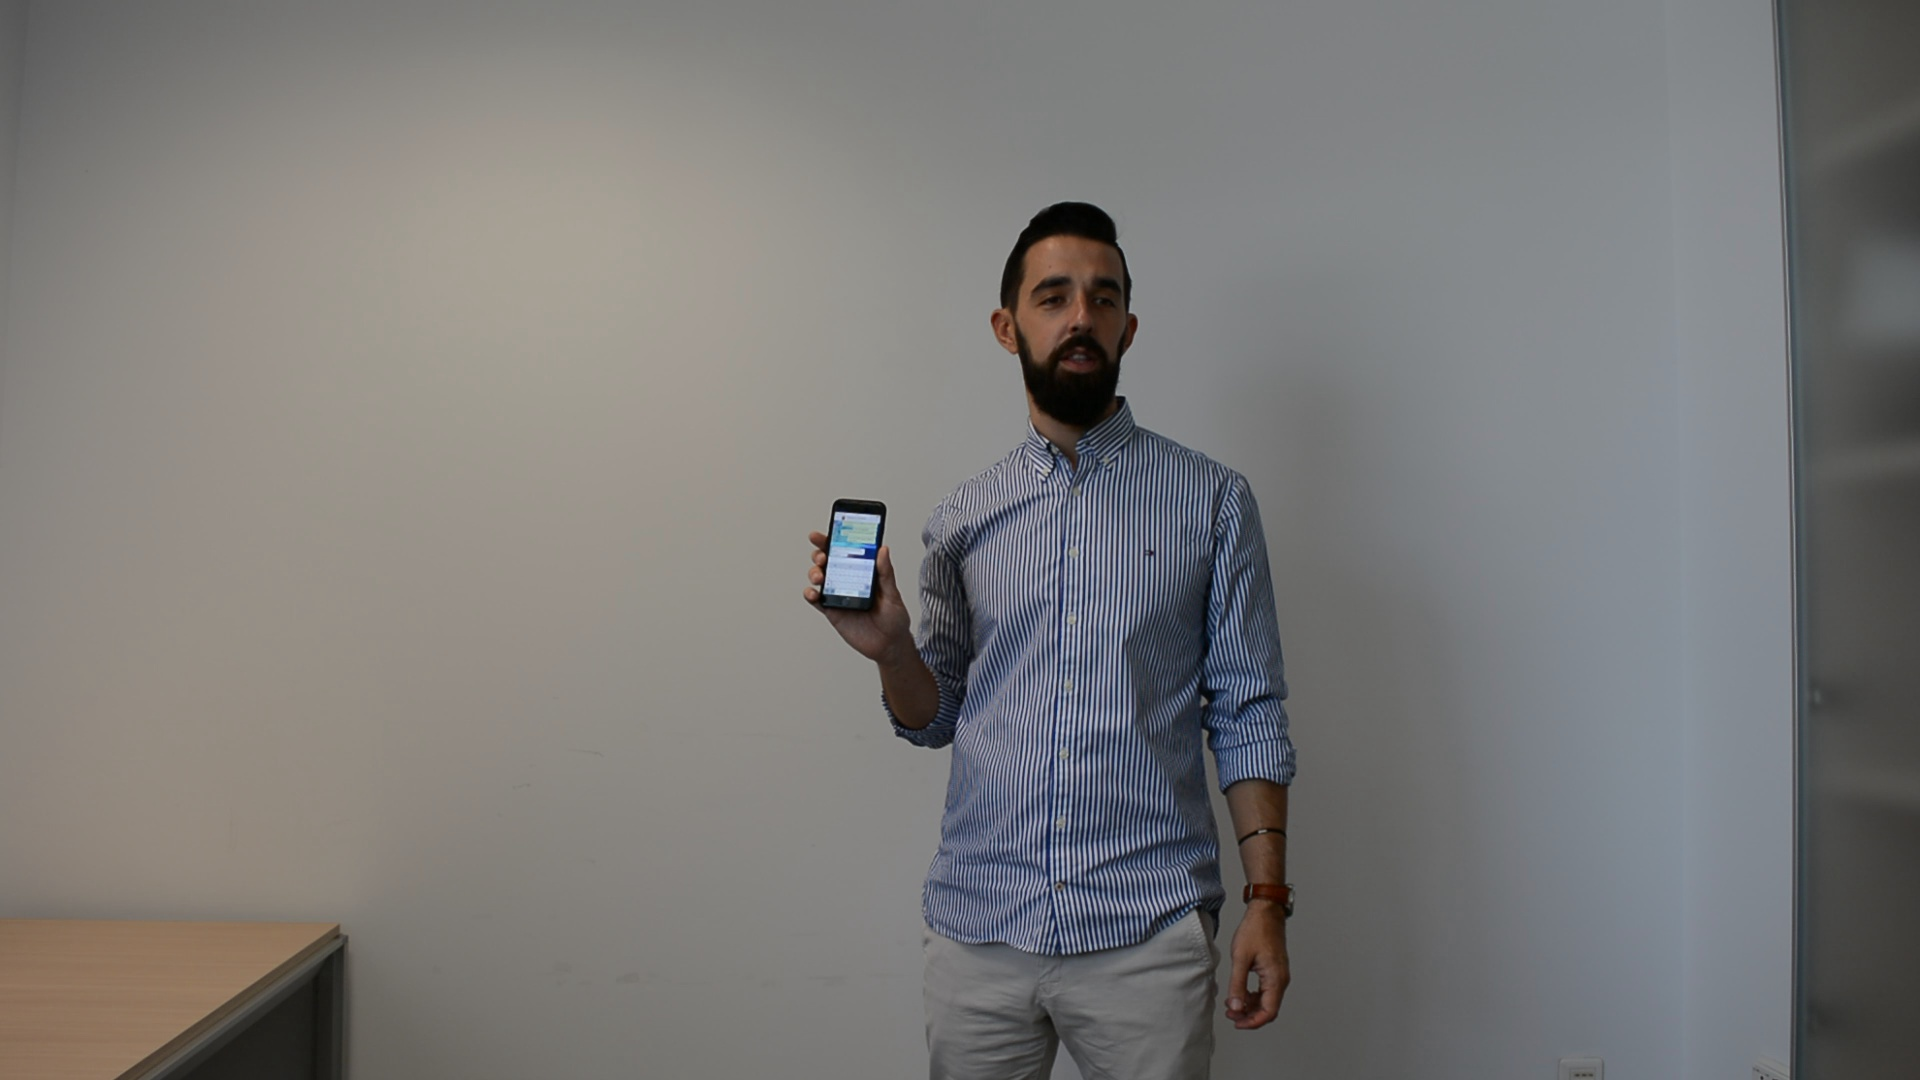smartphone: (815, 496, 890, 616)
